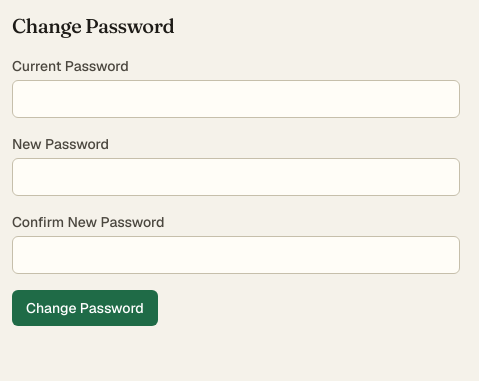
Test: ChangePasswordForm › should show validation error when passwords do not match
Type "oldpass12" into the password field labelled "Current Password". click: (236, 99)
box: left=12, top=80, right=460, bottom=118
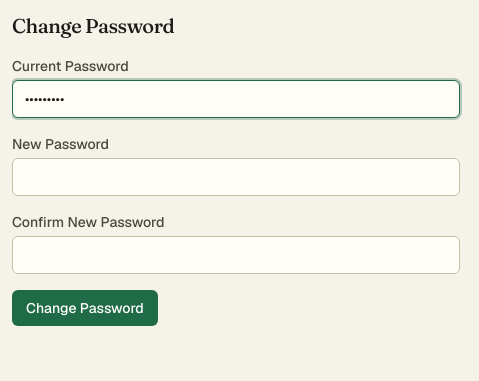
Type "newpass12" into the password field labelled "New Password". click: (236, 177)
box: left=12, top=158, right=460, bottom=196
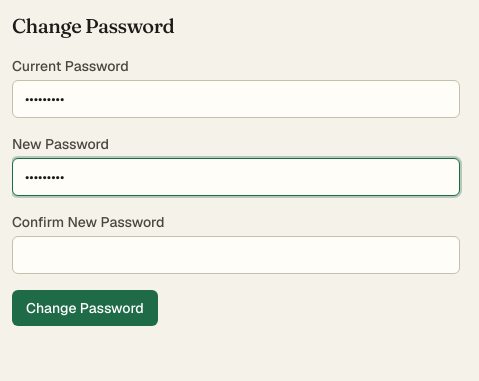
Type "different" into the password field labelled "Confirm New Password". click: (236, 255)
box: left=12, top=236, right=460, bottom=274
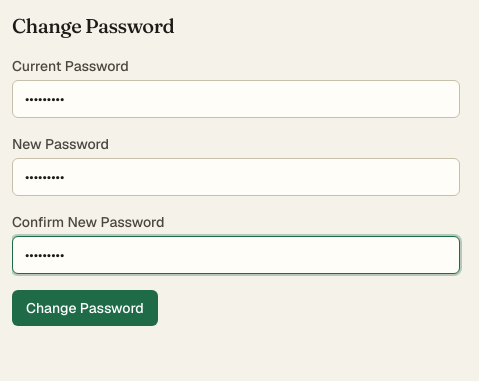
Click the button "Change Password". click: (85, 308)
box: left=12, top=290, right=158, bottom=326
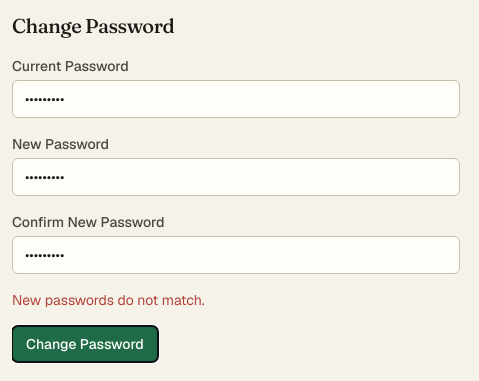
Now the text "New passwords do not match." is shown, box left=12, top=291, right=205, bottom=309
